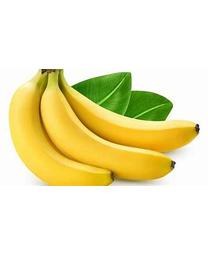banana: (8, 65, 185, 185)
